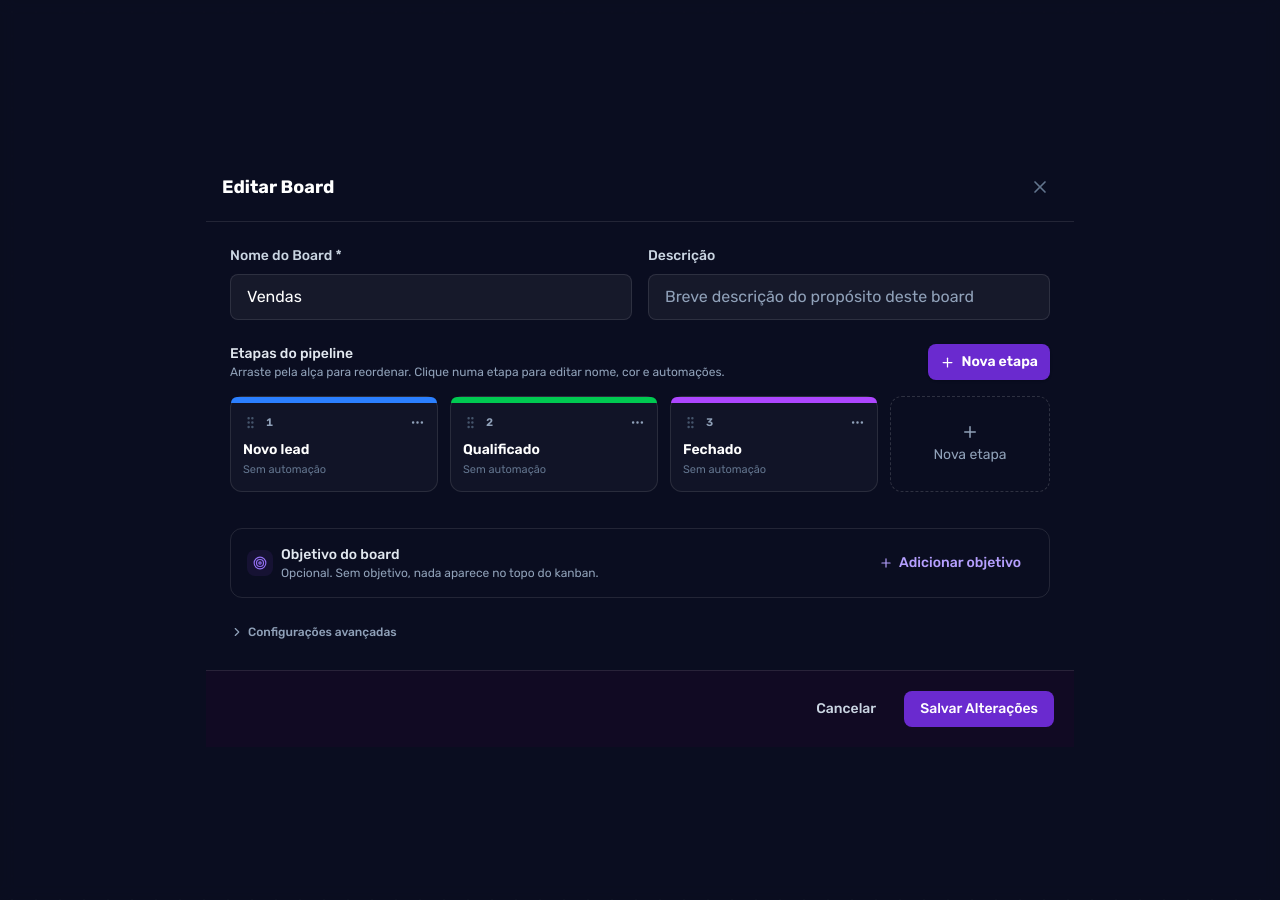
Test: Editar Board: etapas › o menu "..." abre, permanece aberto e tem as ações da etapa
Press the mouse on the button named "Mais ações: Novo lead" at point(418, 423), box [406,411,429,434]
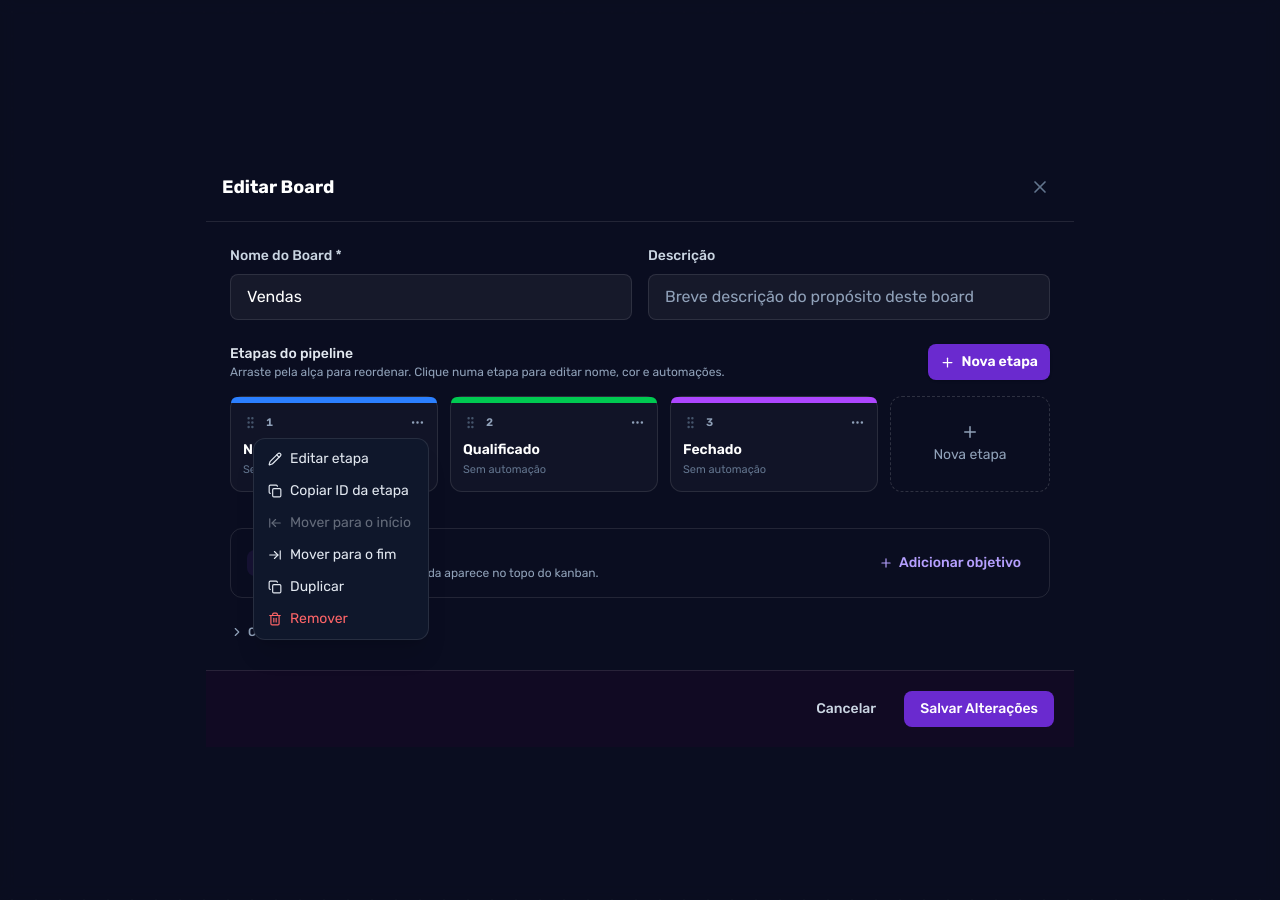
Expected: the menu item "Editar etapa" is shown, [268,450,369,467]
Expected: the menu item "Copiar ID da etapa" is shown, [268,482,409,499]
Expected: the menu item "Mover para o fim" is shown, [268,546,396,563]
